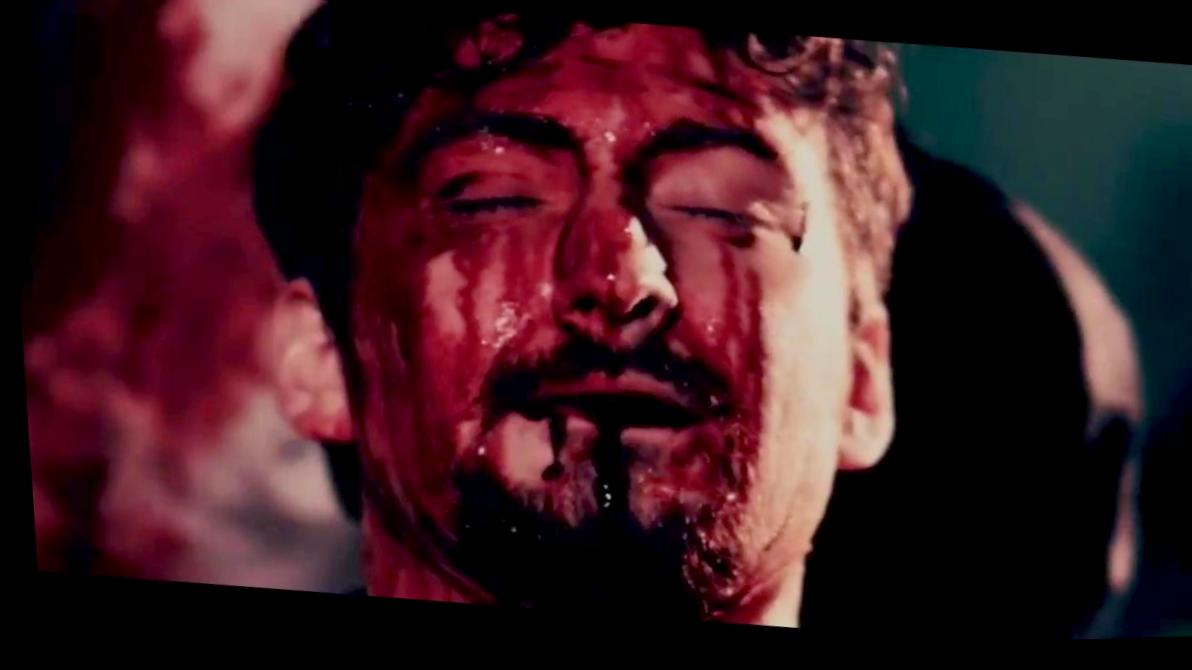Fire: (343, 19, 783, 618), (17, 0, 274, 577), (782, 207, 803, 257)
